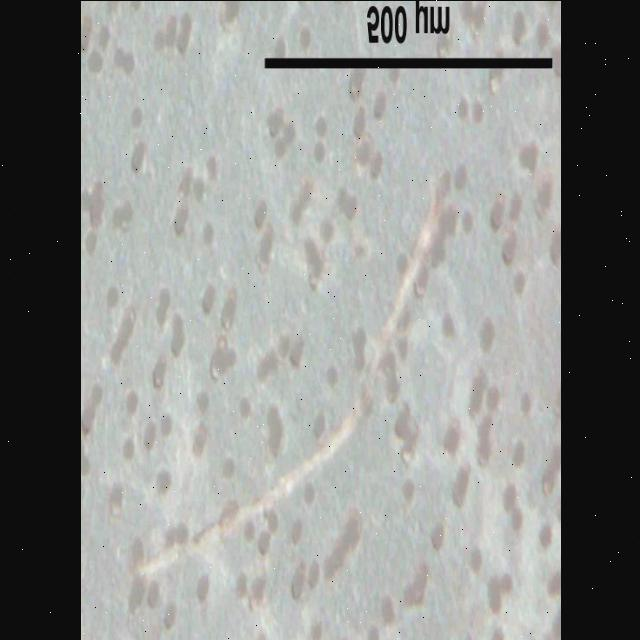Fibre: (133, 150, 463, 596)
